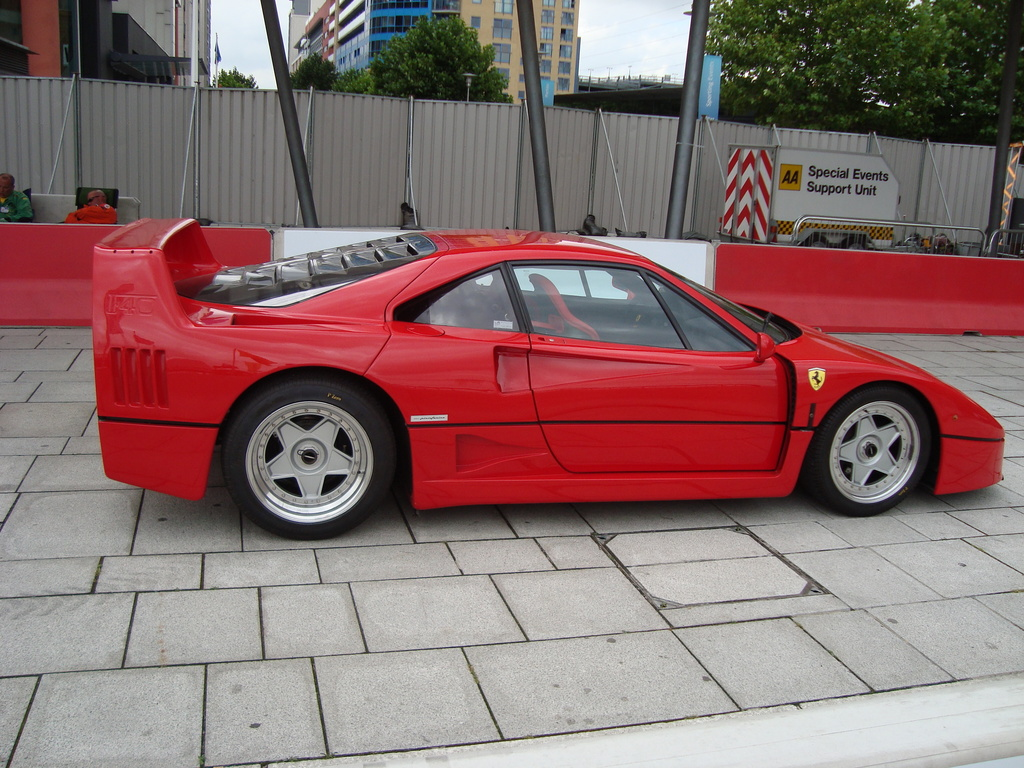Car: (92, 217, 1004, 540)
